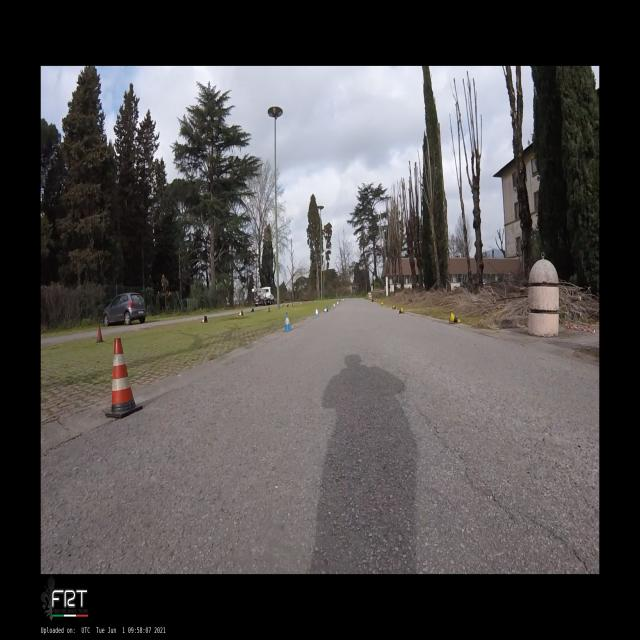blue_cone: (283, 312, 293, 331), (315, 307, 319, 317), (324, 306, 328, 312), (333, 303, 336, 307)
large_orange_cone: (105, 338, 143, 418)
orange_cone: (201, 316, 208, 323), (238, 310, 244, 316)
unknown_cone: (95, 324, 105, 342), (268, 306, 271, 312), (251, 308, 254, 312)
yellow_cone: (449, 311, 461, 323), (397, 307, 404, 314), (392, 304, 397, 310), (381, 302, 384, 306)
